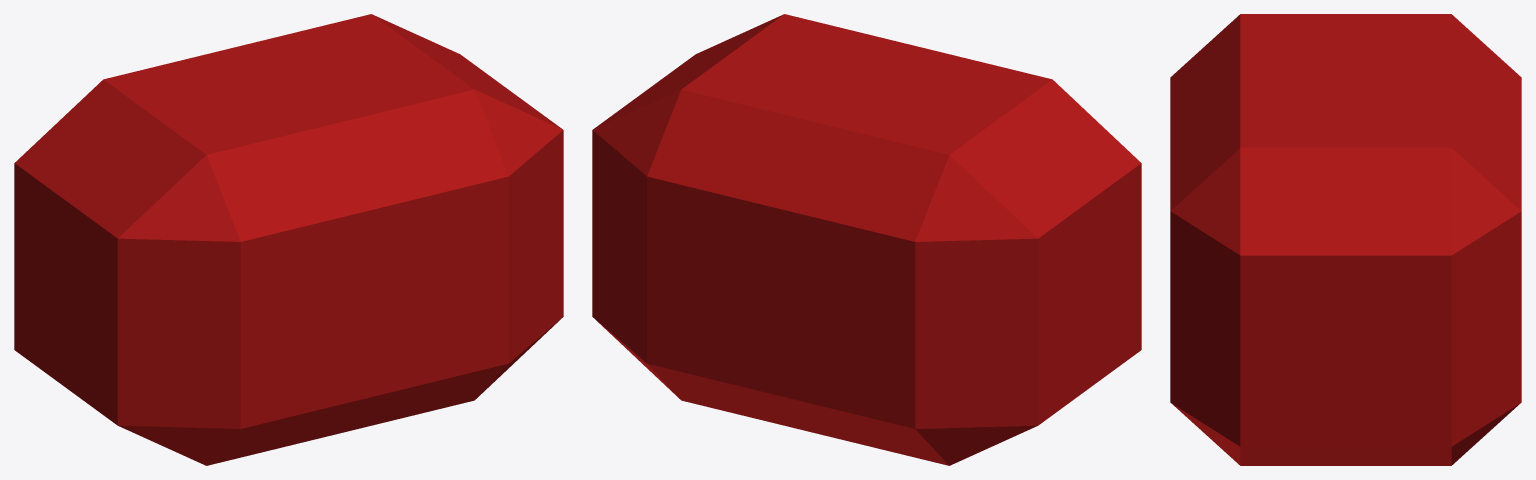
Rendered from enemy.gltf.
3 views of the same model, side by side, from view 1: azimuth 30°, elevation 25°; view 2: azimuth 150°, elevation 25°; view 3: azimuth 270°, elevation 25° (orthographic). The views are drawn at different scales.
Visible parts, largest first — view 1: Enemy; view 2: Enemy; view 3: Enemy.
Part boxes in pixels (x1,y1,x2,y2): Enemy: (14, 14, 563, 465); Enemy: (592, 14, 1141, 465); Enemy: (1170, 14, 1521, 465).
Size of the model in its own units: 4.5 by 3 by 3.
Materials: 1 (1 with a texture image).
